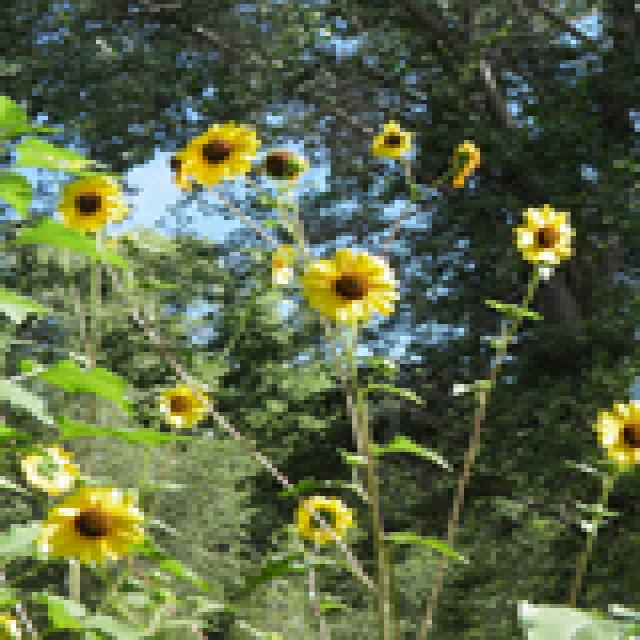sunflower: (292, 240, 409, 339), (33, 480, 160, 568), (168, 116, 264, 204), (287, 488, 371, 552), (54, 168, 130, 238), (584, 388, 640, 482), (513, 200, 582, 272), (147, 372, 216, 431), (242, 139, 312, 196), (20, 444, 84, 495), (439, 135, 485, 196), (368, 116, 417, 170), (267, 236, 307, 294)
